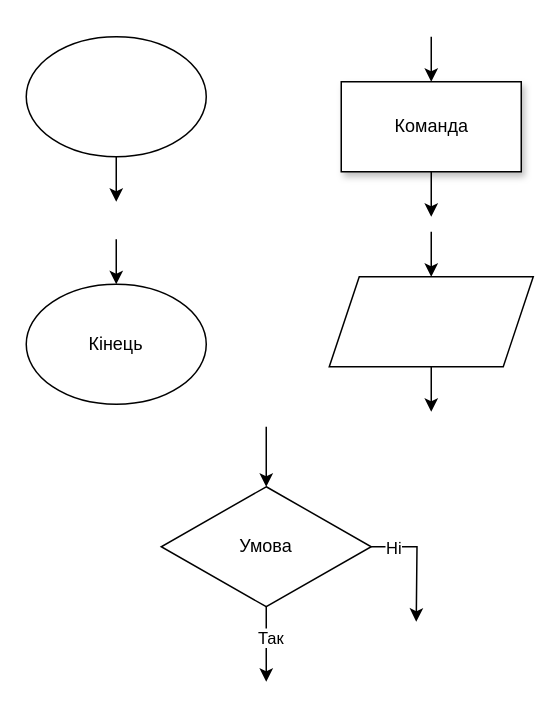
This 560x720 diagram has some shape labels left out. The centre of each missing label's shape, as x and y in pixels:
"Введення / виведення" belongs at (x=430, y=321).
"Початок" belongs at (x=115, y=96).
